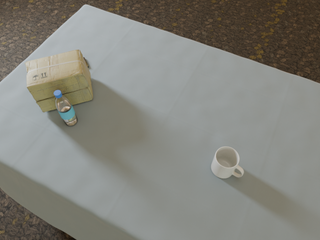bottle: (54, 90, 77, 126)
box: (25, 50, 93, 112)
cup: (211, 147, 244, 178)
